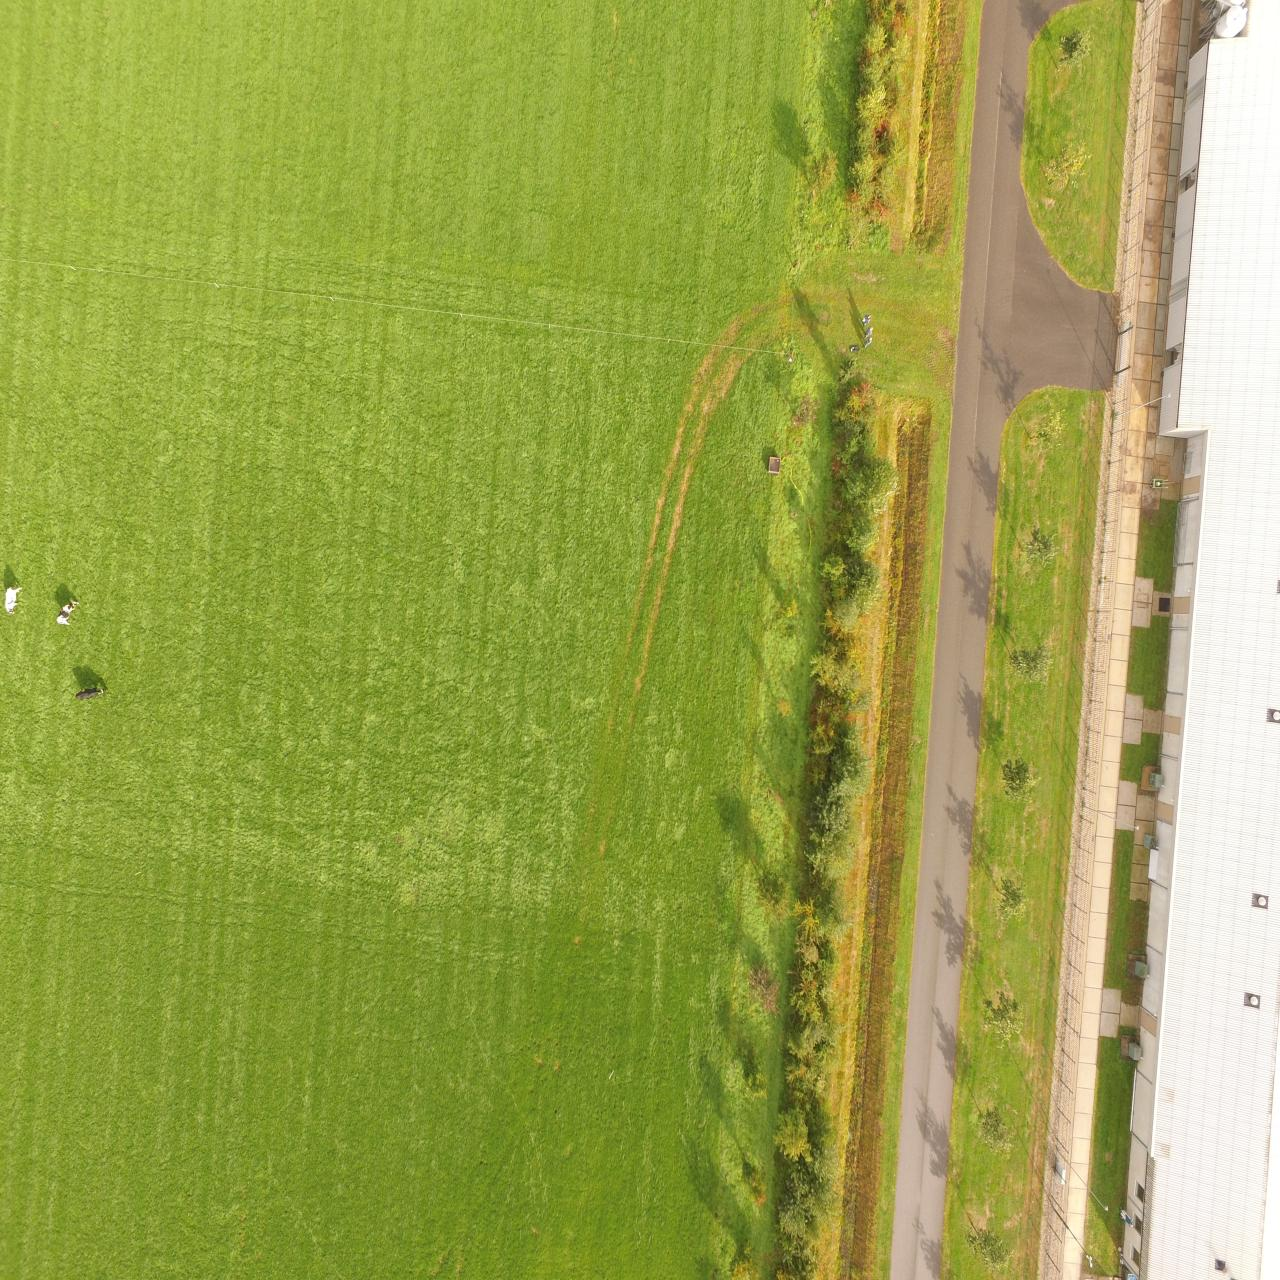cow: (55, 600, 80, 626), (5, 586, 23, 613), (75, 686, 107, 699)
